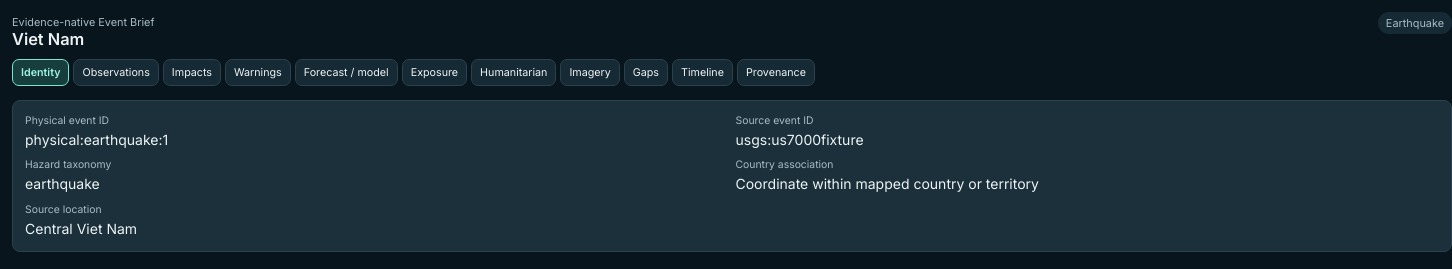
Test case: EventBrief › provides every evidence-native section and keeps exposure wording conservative
The image size is (1452, 269).
Expected: the tab "Identity" is shown, [12,59,70,86]
Expected: the tab "Observations" is shown, [74,59,159,86]
Step 1. Click the tab "Exposure" → coordinates (434, 72), box [402,59,467,86]
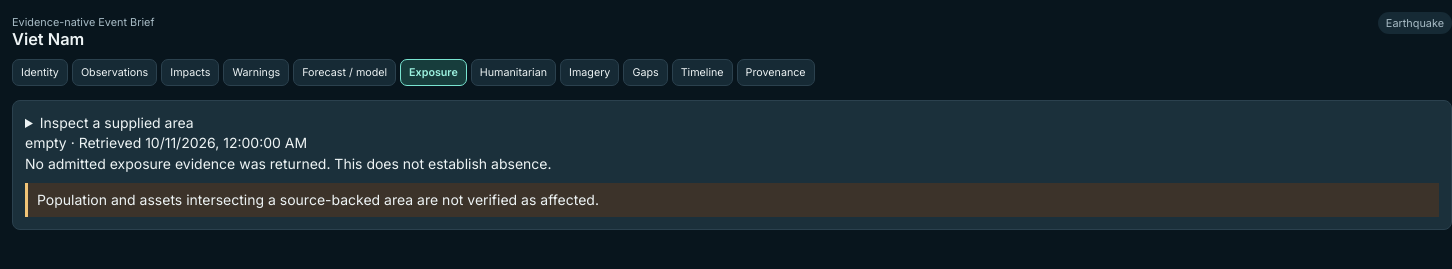
Expected: the text "not verified as affected" is shown, [37,191,599,208]
